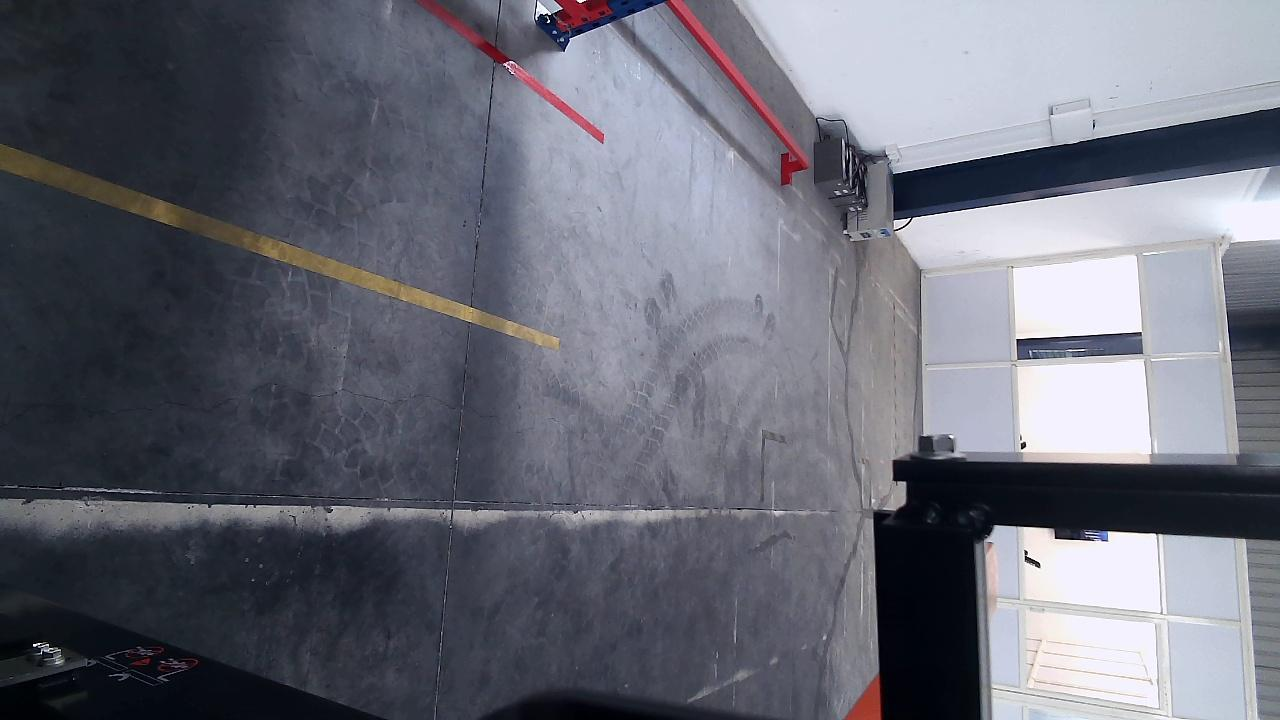red_line: (415, 0, 604, 145)
yellow_line: (0, 143, 560, 350)
